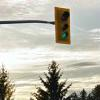Traffic light: (48, 3, 83, 52)
